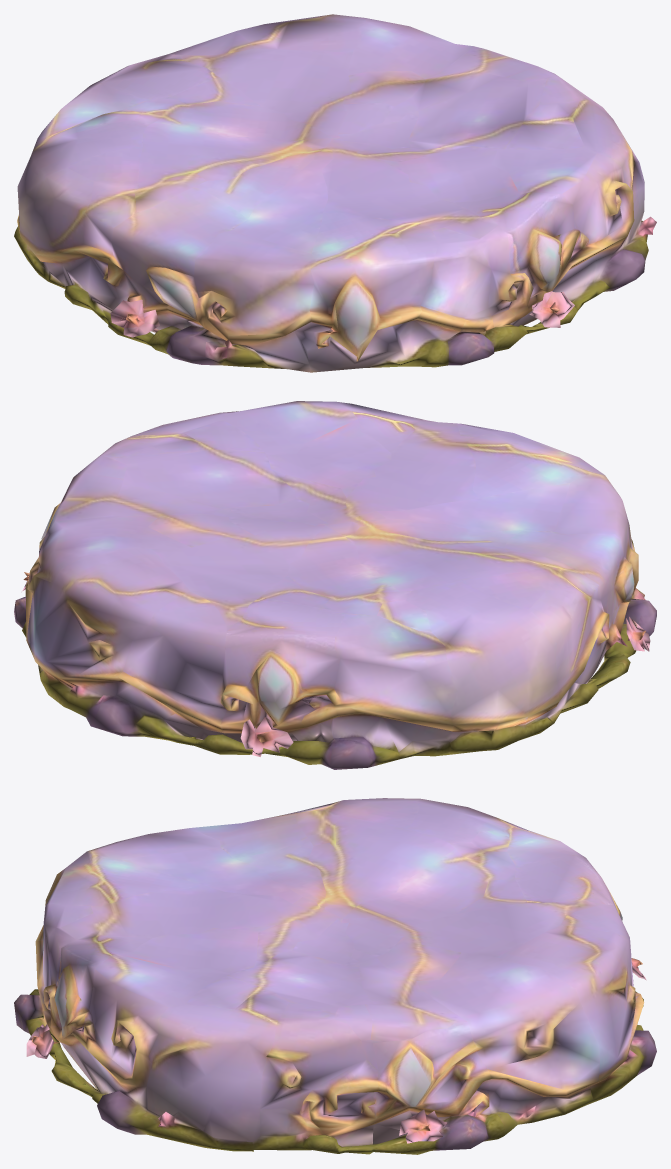
Rendered from stepping-stone.medium.glb.
3 views of the same model, one above another, from view 1: azimuth 30°, elevation 25°; view 2: azimuth 150°, elevation 25°; view 3: azimuth 270°, elevation 25° (orthographic). The views are drawn at different scales.
Parts seen in each view (by area): view 1: tripo_node_f513c91a-b407-441a-9f11-361787d82c24; view 2: tripo_node_f513c91a-b407-441a-9f11-361787d82c24; view 3: tripo_node_f513c91a-b407-441a-9f11-361787d82c24.
Boxes of the visible parts, <box> form: tripo_node_f513c91a-b407-441a-9f11-361787d82c24: <box>14,14,656,372</box>; tripo_node_f513c91a-b407-441a-9f11-361787d82c24: <box>14,401,656,769</box>; tripo_node_f513c91a-b407-441a-9f11-361787d82c24: <box>14,798,656,1154</box>.
Bounding box in the file's own units: 0.9979 × 0.2397 × 1.03.
Materials: 1 (1 with a texture image).
